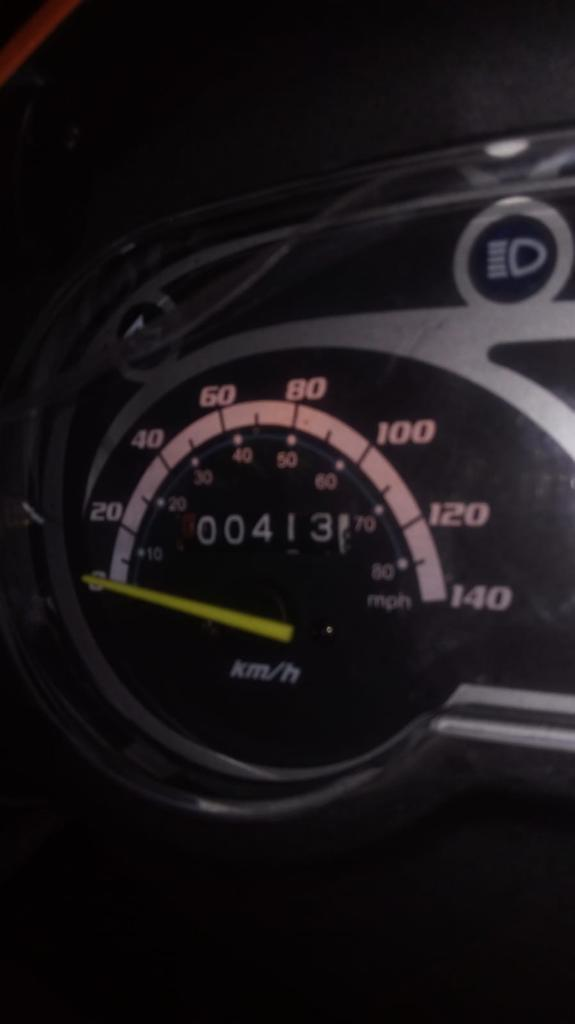0: (222, 513, 245, 545), (196, 514, 217, 546)
1: (286, 511, 296, 541)
3: (308, 510, 334, 542)
4: (250, 510, 273, 543)
8: (340, 527, 354, 554)
odometer: (178, 507, 354, 558)
